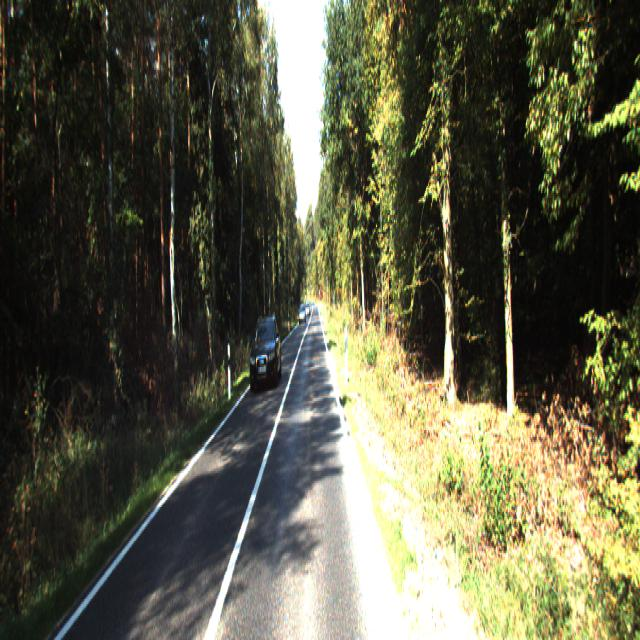Car: (250, 313, 282, 392)
